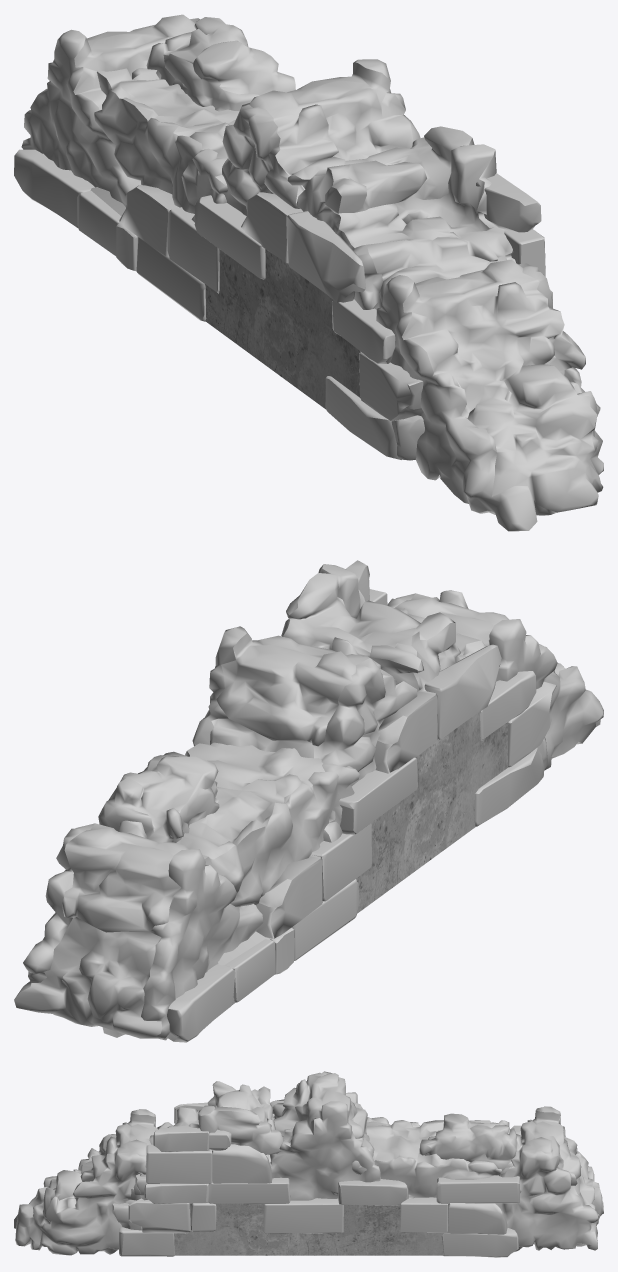
Rendered from SM_Wall_8x8_Broken_01d.fbx.
3 renders of one model, top to bottom at view 1: azimuth 30°, elevation 25°; view 2: azimuth 150°, elevation 25°; view 3: azimuth 270°, elevation 25°, orthographic. The views are drawn at different scales.
Parts seen in each view (by area): view 1: SM_Wall_8x8_Broken_01d_LOD0; view 2: SM_Wall_8x8_Broken_01d_LOD0; view 3: SM_Wall_8x8_Broken_01d_LOD0.
Part boxes in pixels (bbox=[...]): SM_Wall_8x8_Broken_01d_LOD0: bbox=[14, 14, 603, 531]; SM_Wall_8x8_Broken_01d_LOD0: bbox=[14, 560, 603, 1042]; SM_Wall_8x8_Broken_01d_LOD0: bbox=[14, 1071, 603, 1257].
Size of the model in its own units: 226 by 1016 by 296.
